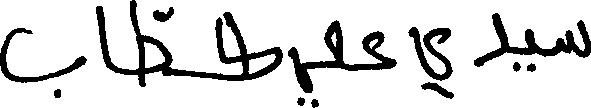X: (0, 23, 84, 102), (216, 7, 281, 85), (129, 0, 171, 91), (409, 22, 450, 103), (475, 8, 508, 71), (362, 26, 396, 74), (288, 42, 313, 107), (557, 15, 590, 62), (95, 1, 111, 74), (323, 15, 342, 73), (526, 24, 534, 76)
